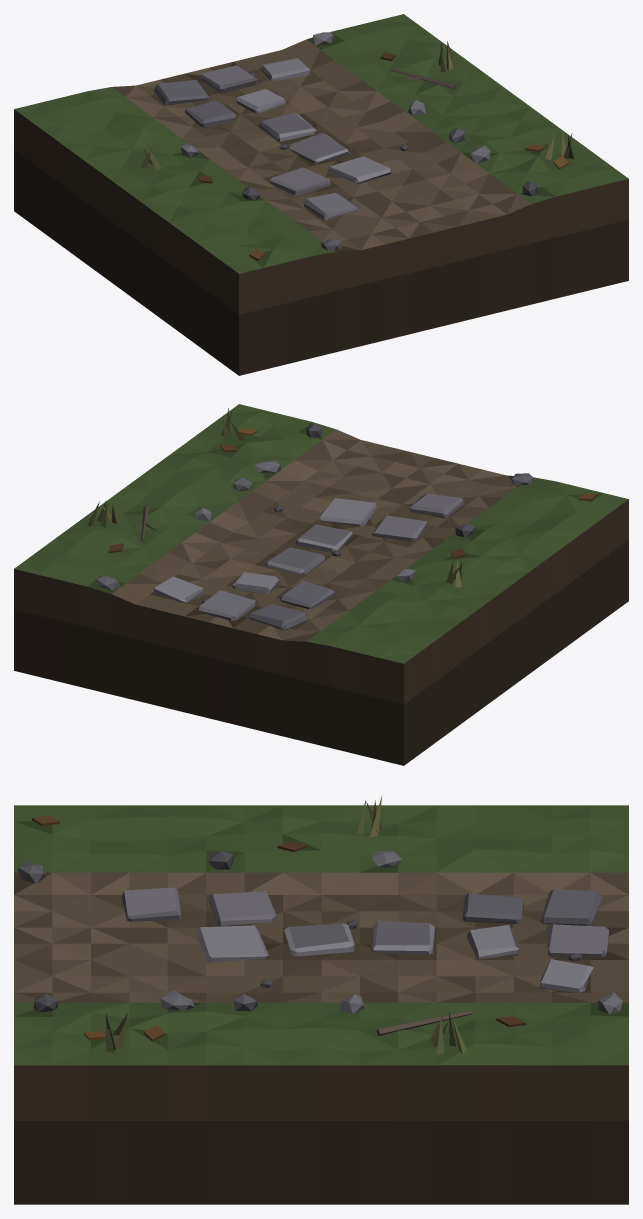
The model's file is haunt_road_straight.glb.
3 renders of one model, top to bottom at view 1: azimuth 30°, elevation 25°; view 2: azimuth 150°, elevation 25°; view 3: azimuth 270°, elevation 25°, orthographic. The views are drawn at different scales.
Parts seen in each view (by area): view 1: HauntRoadStraight; view 2: HauntRoadStraight; view 3: HauntRoadStraight.
Part boxes in pixels (<box>): HauntRoadStraight: <box>14,14,628,375</box>; HauntRoadStraight: <box>14,404,628,765</box>; HauntRoadStraight: <box>14,796,628,1204</box>.
Size of the model in its own units: 2 by 0.6379 by 2.
